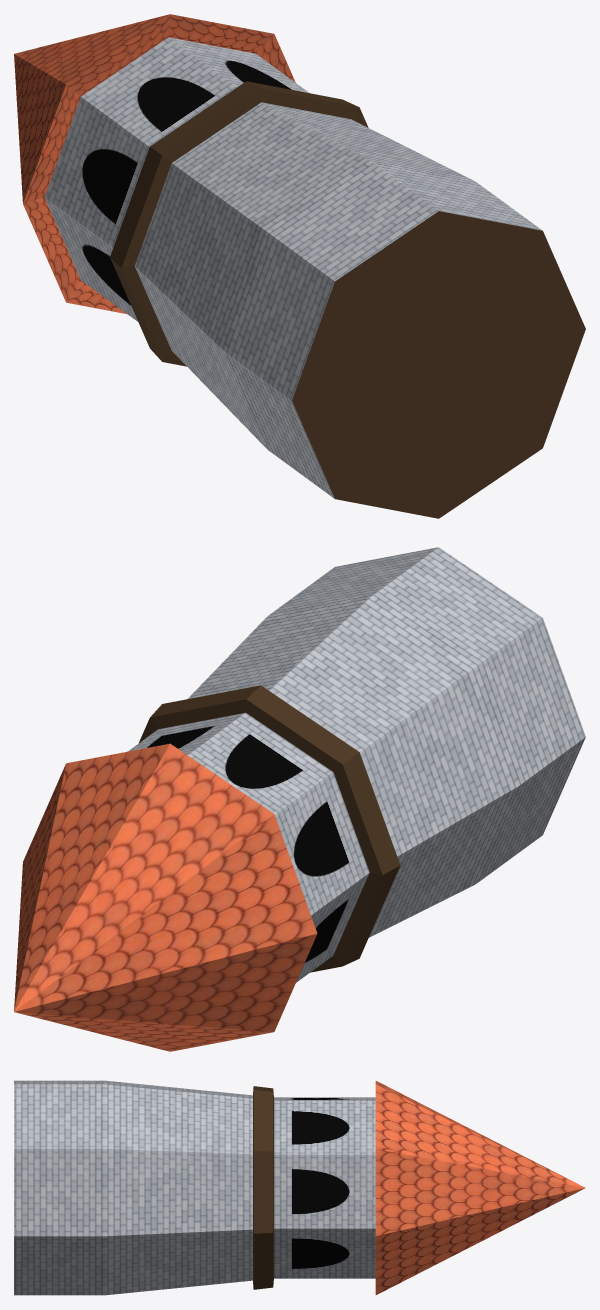
File: wieza_podstawowa1.fbx
3 views of the same model, one above another, from view 1: azimuth 30°, elevation 25°; view 2: azimuth 150°, elevation 25°; view 3: azimuth 270°, elevation 25° (orthographic). The views are drawn at different scales.
Parts seen in each view (by area): view 1: Cylinder; view 2: Cylinder; view 3: Cylinder.
Boxes of the visible parts, bbox=[...] form: Cylinder: bbox=[14, 14, 585, 518]; Cylinder: bbox=[14, 547, 585, 1051]; Cylinder: bbox=[14, 1080, 585, 1295].
Bounding box in the file's own units: 501 × 200 × 200.
Materials: 1 (1 with a texture image).
